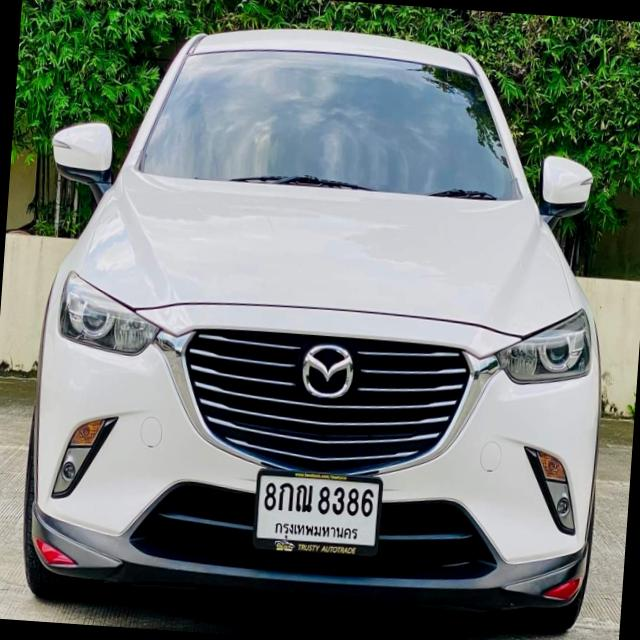license_plate: (250, 465, 384, 560)
